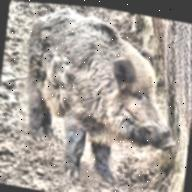boar: (12, 1, 188, 192)
